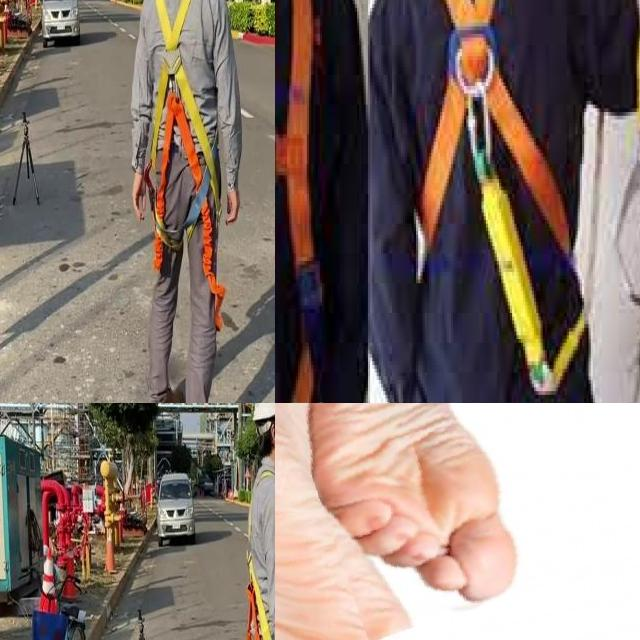Barefoots: (307, 403, 526, 607), (275, 403, 400, 640)
Harness: (420, 0, 578, 403), (155, 92, 225, 300), (153, 0, 218, 194), (247, 556, 274, 640)
